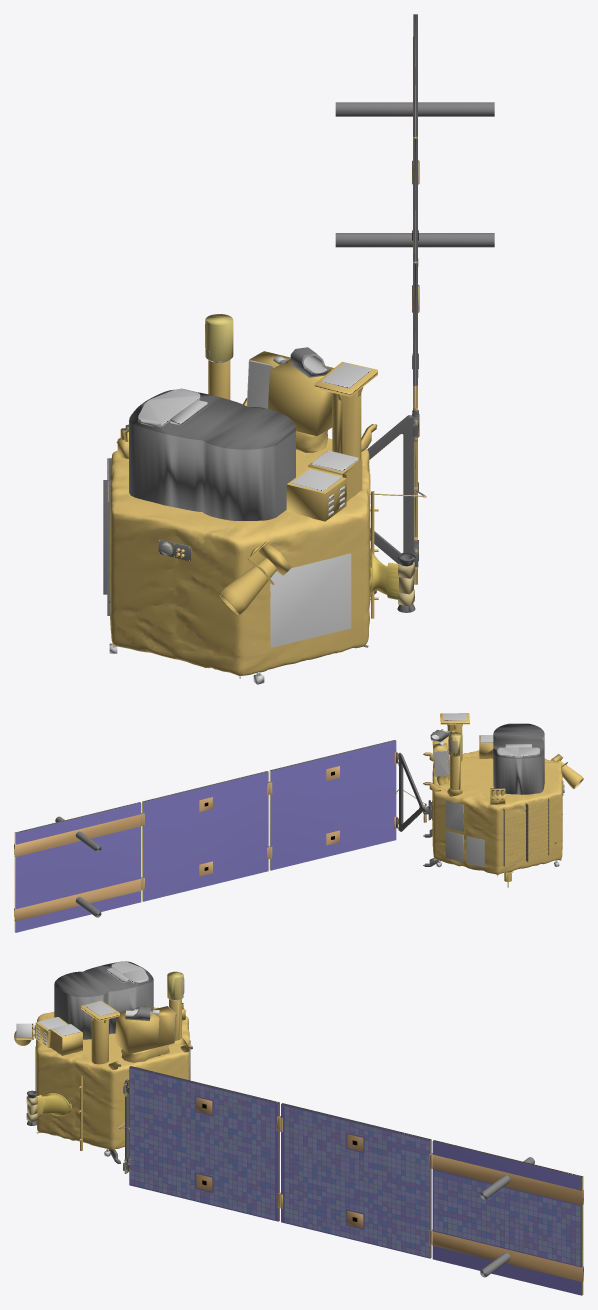
File: earth-observing-1-eo-1.glb
3 views of the same model, one above another, from view 1: azimuth 30°, elevation 25°; view 2: azimuth 150°, elevation 25°; view 3: azimuth 270°, elevation 25° (orthographic). The views are drawn at different scales.
Visible parts, largest first — view 1: EO-1_vFINAL [Layer2], EO-1_vFINAL [Layer7], EO-1_vFINAL [Layer5], EO-1_vFINAL [Layer8], EO-1_vFINAL [Layer1], EO-1_vFINAL [Layer9], EO-1_vFINAL [Layer3], EO-1_vFINAL [Layer6]; view 2: EO-1_vFINAL [Layer1], EO-1_vFINAL [Layer2], EO-1_vFINAL [Layer7], EO-1_vFINAL [Layer8], EO-1_vFINAL [Layer5], EO-1_vFINAL [Layer6], EO-1_vFINAL [Layer3]; view 3: EO-1_vFINAL [Layer1], EO-1_vFINAL [Layer2], EO-1_vFINAL [Layer5], EO-1_vFINAL [Layer7], EO-1_vFINAL [Layer8], EO-1_vFINAL [Layer9], EO-1_vFINAL [Layer3].
Part boxes in pixels (left/top/right/bottom): EO-1_vFINAL [Layer2]: left=110, top=430, right=370, bottom=675; EO-1_vFINAL [Layer7]: left=109, top=347, right=377, bottom=603; EO-1_vFINAL [Layer5]: left=116, top=351, right=378, bottom=618; EO-1_vFINAL [Layer8]: left=109, top=352, right=371, bottom=684; EO-1_vFINAL [Layer1]: left=335, top=14, right=494, bottom=584; EO-1_vFINAL [Layer9]: left=369, top=548, right=415, bottom=612; EO-1_vFINAL [Layer3]: left=205, top=314, right=233, bottom=362; EO-1_vFINAL [Layer6]: left=103, top=458, right=111, bottom=615; EO-1_vFINAL [Layer1]: left=14, top=740, right=432, bottom=932; EO-1_vFINAL [Layer2]: left=432, top=750, right=562, bottom=874; EO-1_vFINAL [Layer7]: left=423, top=723, right=556, bottom=866; EO-1_vFINAL [Layer8]: left=433, top=713, right=559, bottom=867; EO-1_vFINAL [Layer5]: left=425, top=713, right=583, bottom=887; EO-1_vFINAL [Layer6]: left=503, top=798, right=549, bottom=866; EO-1_vFINAL [Layer3]: left=448, top=732, right=462, bottom=756; EO-1_vFINAL [Layer1]: left=117, top=1066, right=583, bottom=1295; EO-1_vFINAL [Layer2]: left=36, top=1007, right=189, bottom=1149; EO-1_vFINAL [Layer5]: left=14, top=999, right=192, bottom=1150; EO-1_vFINAL [Layer7]: left=54, top=961, right=192, bottom=1163; EO-1_vFINAL [Layer8]: left=33, top=961, right=190, bottom=1156; EO-1_vFINAL [Layer9]: left=26, top=1090, right=71, bottom=1125; EO-1_vFINAL [Layer3]: left=167, top=971, right=184, bottom=1000.
Bounding box in the file's own units: 109 × 42.78 × 129.
